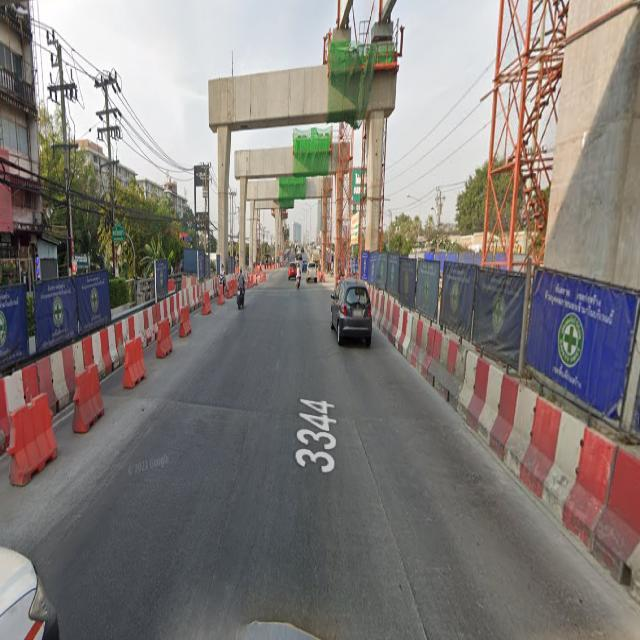fallen_object: (534, 398, 640, 614), (460, 346, 585, 490), (423, 313, 484, 420), (0, 397, 73, 476), (35, 313, 129, 363), (0, 357, 58, 436), (375, 280, 426, 364), (59, 363, 118, 435), (137, 306, 192, 381), (113, 280, 192, 315), (112, 323, 149, 394), (176, 292, 204, 356), (192, 292, 224, 314)
